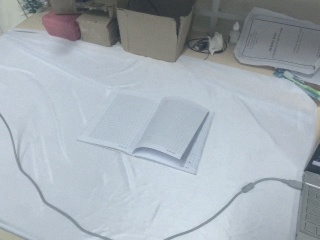box: (116, 1, 196, 63), (78, 7, 120, 47)
